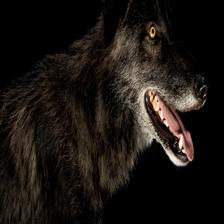WOLF: (0, 1, 207, 224)
